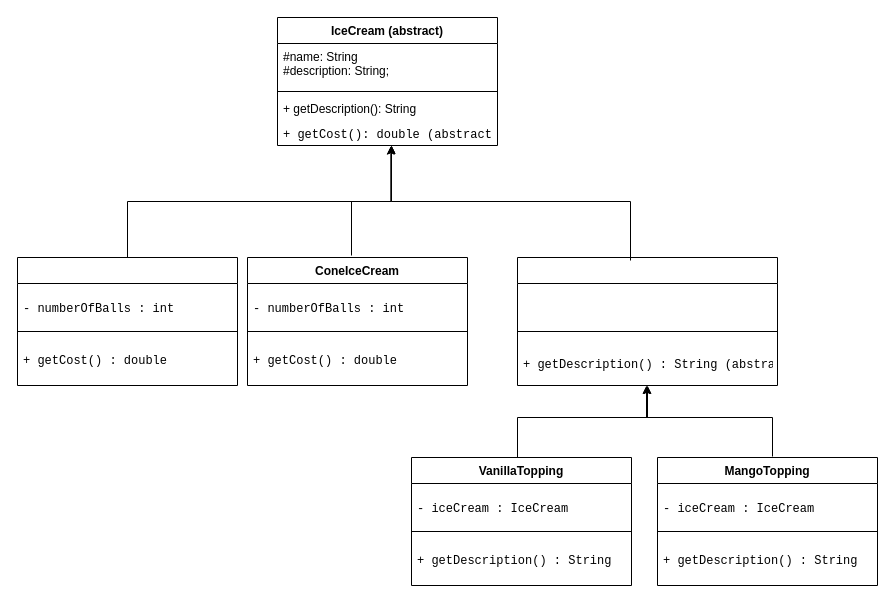
This 895x606 diagram has some shape labels left out. The shapes that lost their labels are listed below. From the top down, each one's box as (x1, y1, x2, y2) in pixels, then its label:
(16, 256, 238, 386): MilkIceCream
(516, 256, 778, 386): TopingsDecorator (abstract)
